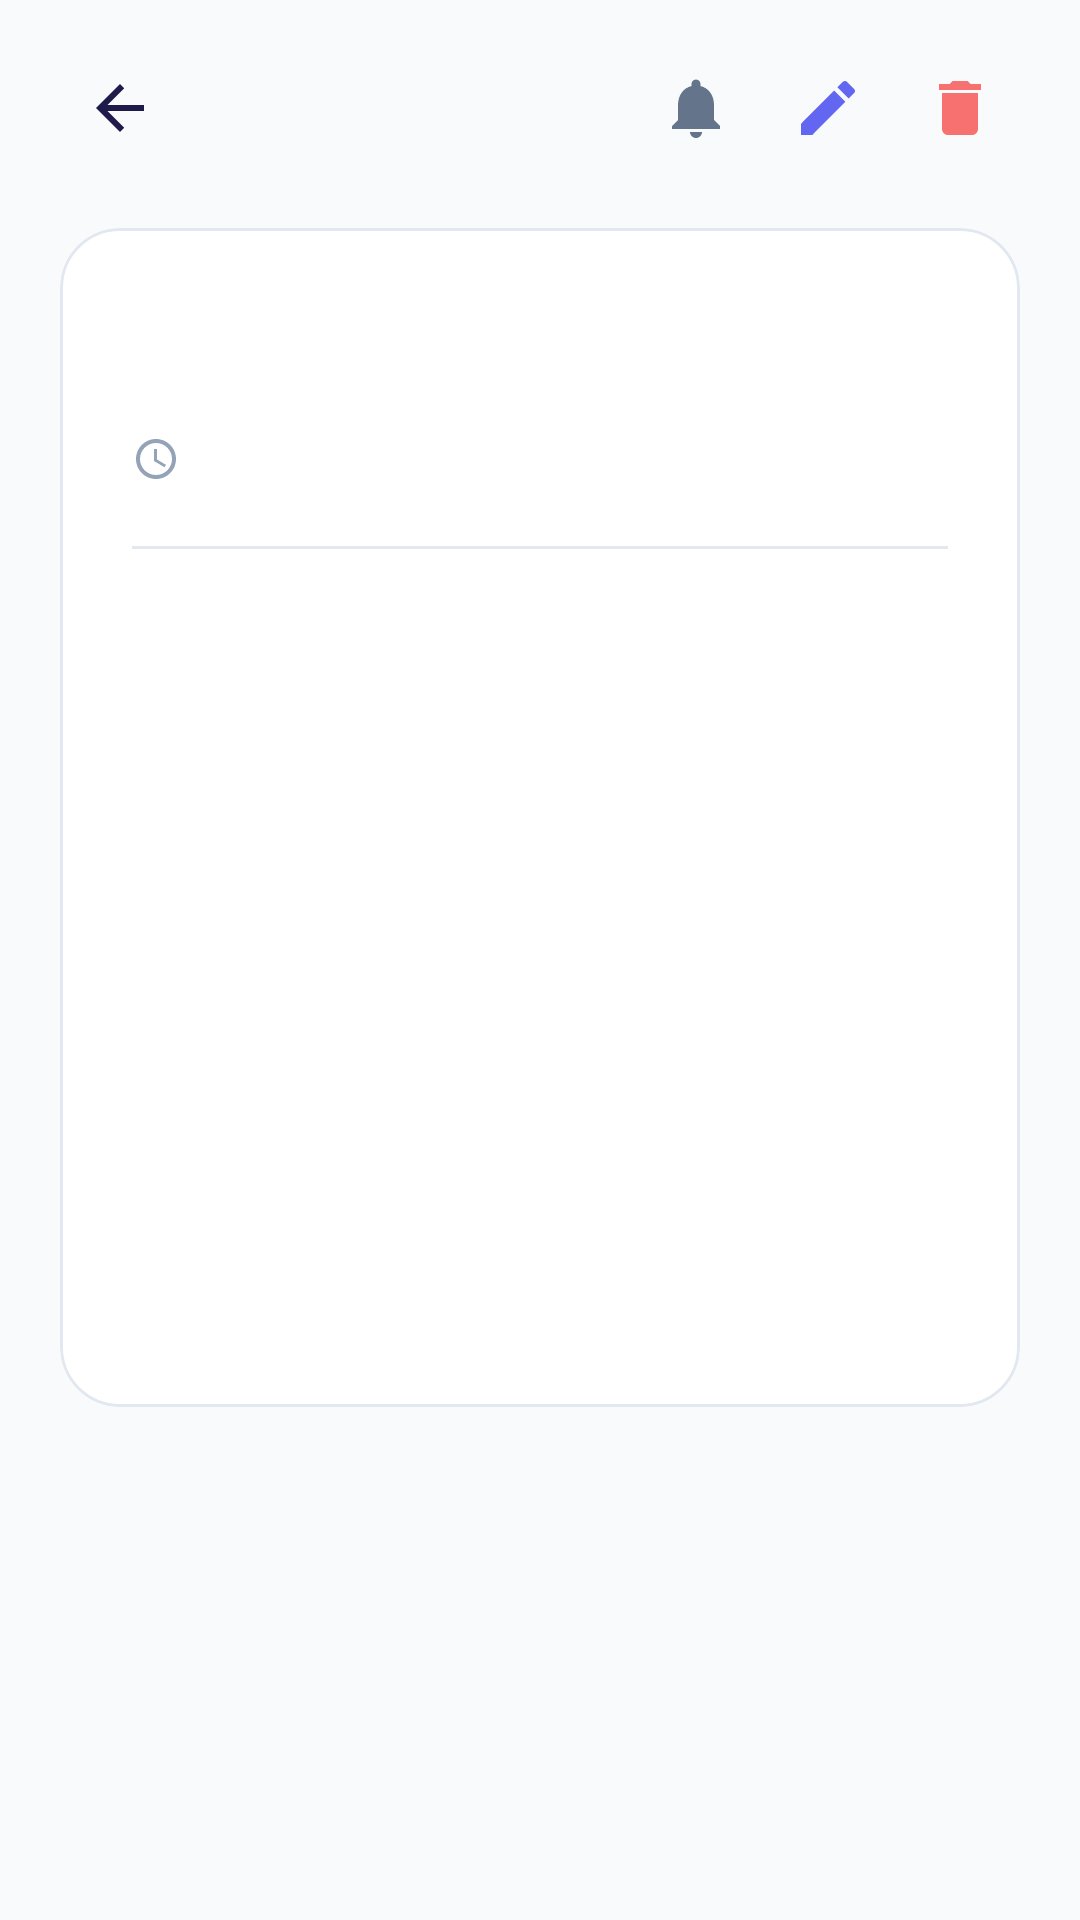

Screen size 1080 × 1920. Icon name, then its center in pixels as point (x, y):
Back: point (120, 108)
Delete: point (960, 108)
Edit: point (828, 108)
Set reminder: point (696, 108)
